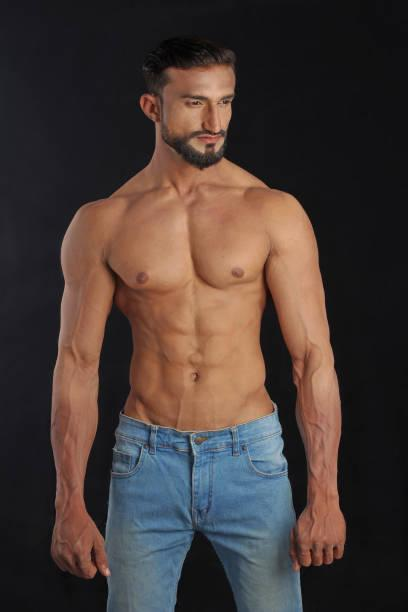Pessoa: (51, 36, 345, 611)
